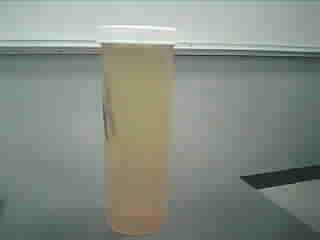Bottle A: (90, 21, 180, 238)
